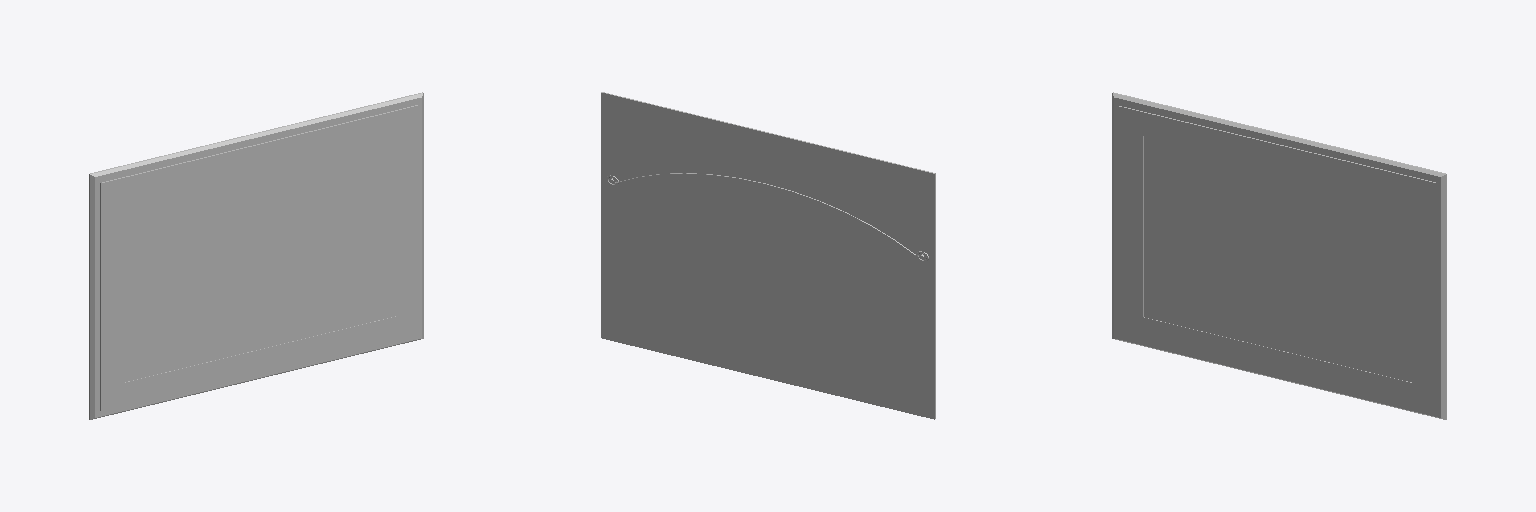
Rendered from pic.obj.
3 views of the same model, side by side, from view 1: azimuth 30°, elevation 25°; view 2: azimuth 150°, elevation 25°; view 3: azimuth 330°, elevation 25° (orthographic).
Parts seen in each view (by area): view 1: Group_001; view 2: Group_001; view 3: Group_001.
Part boxes in pixels (left/top/right/bottom): Group_001: left=89, top=92, right=423, bottom=419; Group_001: left=601, top=92, right=935, bottom=419; Group_001: left=1112, top=92, right=1446, bottom=419.
Bounding box in the file's own units: 4274 × 3012 × 143.